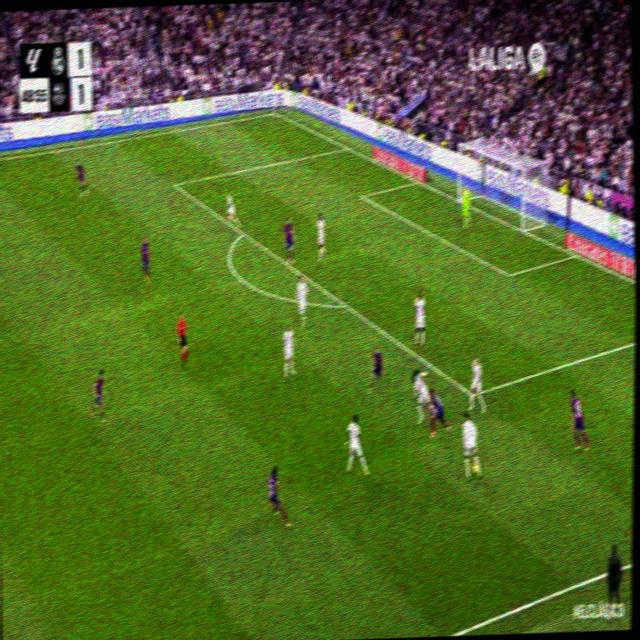bigarea_top_inner: (170, 176, 177, 191)
bigarea_top_outter: (343, 142, 348, 152)
bottom_arc_area_intersection: (339, 295, 350, 314)
corner: (270, 108, 277, 116)
smallarea_top_inner: (359, 190, 365, 200)
top_arc_area_intersection: (238, 224, 247, 240)
